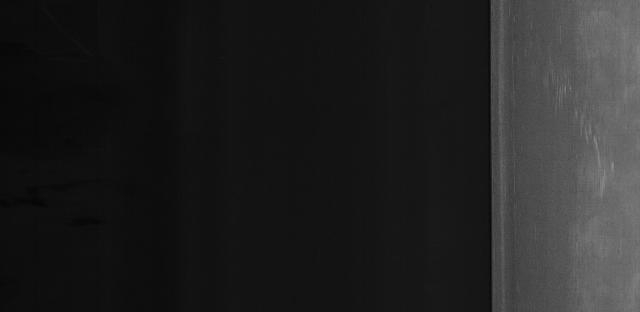silk_spot: (538, 39, 624, 229)
